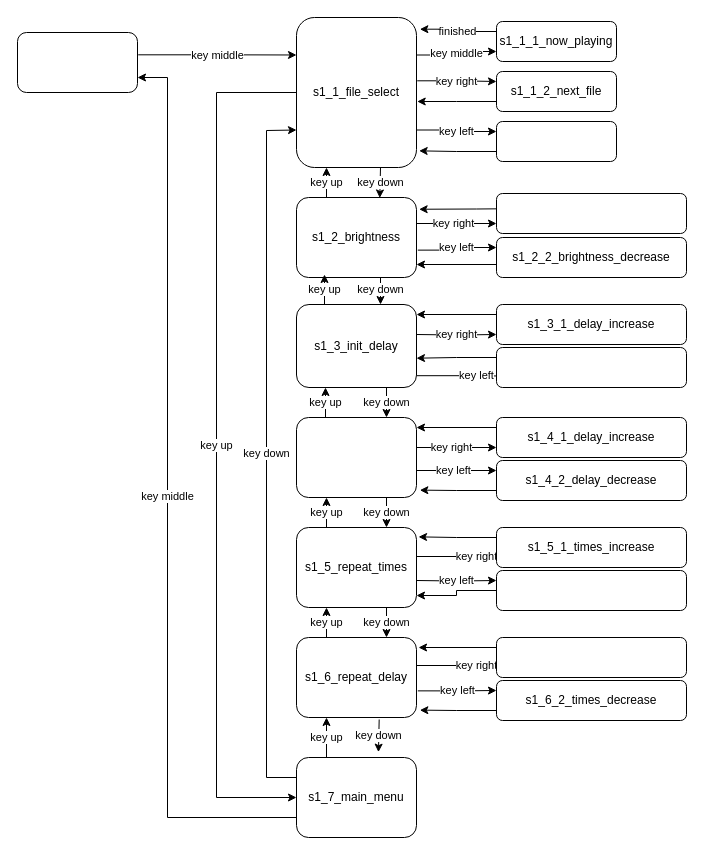
Image size: 704x855. Some labels were removed from this diagram. The centre of each missing label's shape, as x and y in pixels:
s1_1_3_previous_file: the point at 556,141
s1_2_1_brightness_increase: the point at 591,213
s1_3_2_delay_decrease: the point at 591,367
s1_4_frame_delay: the point at 356,457
s1_5_2_times_decrease: the point at 591,590
s1_6_1_times_increase: the point at 591,657
s1_file: the point at 77,62
